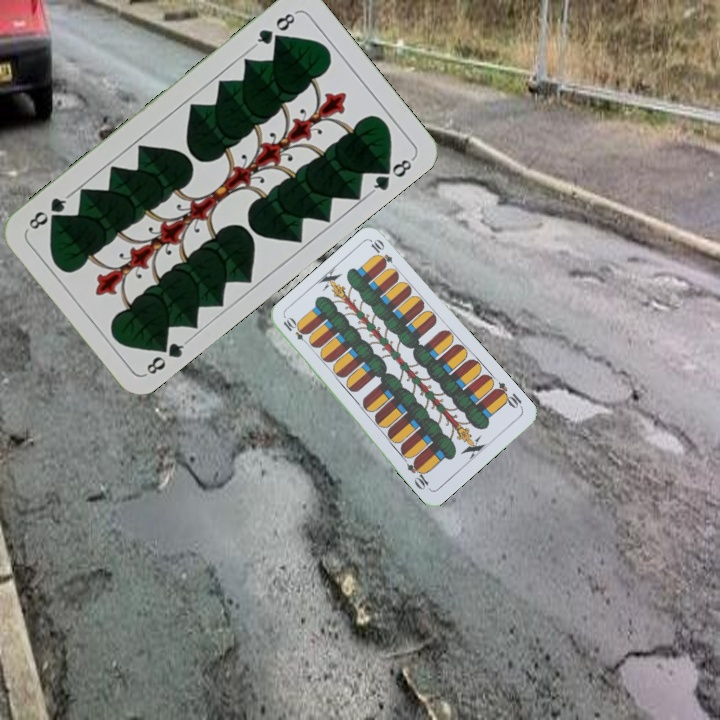E10: (279, 314, 313, 348), (490, 378, 525, 411)
G8: (141, 335, 191, 378), (250, 8, 300, 50)
